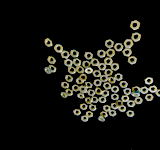nut: (130, 19, 141, 30), (127, 55, 138, 65), (131, 32, 142, 42), (105, 38, 115, 49), (44, 37, 54, 48), (124, 38, 134, 49), (114, 42, 124, 52), (97, 49, 107, 59), (84, 51, 94, 60), (106, 49, 116, 58), (55, 43, 64, 53), (145, 77, 154, 86), (120, 80, 129, 89), (111, 63, 120, 72), (93, 79, 102, 88), (64, 59, 73, 68), (48, 56, 57, 65), (123, 48, 132, 57), (140, 86, 149, 95), (111, 85, 120, 94), (48, 64, 57, 73), (104, 57, 113, 66), (98, 62, 107, 71), (91, 58, 100, 67), (115, 99, 124, 108), (76, 65, 85, 74), (61, 50, 70, 59), (145, 94, 155, 102), (70, 50, 80, 58), (104, 69, 114, 77), (123, 88, 133, 96), (101, 90, 110, 98), (108, 110, 117, 118), (93, 70, 102, 78), (65, 75, 74, 83), (72, 84, 80, 93), (79, 74, 88, 82), (149, 85, 158, 93), (121, 95, 130, 103), (44, 66, 52, 75), (115, 73, 124, 81), (73, 58, 81, 67), (103, 82, 112, 90), (65, 89, 74, 97), (73, 109, 81, 117), (91, 96, 99, 104), (127, 110, 135, 118), (135, 97, 143, 105), (83, 60, 91, 68), (119, 105, 127, 113), (81, 115, 89, 123), (89, 104, 97, 112), (80, 103, 88, 111), (108, 76, 116, 84), (85, 81, 93, 89), (111, 94, 120, 101), (99, 97, 107, 104), (128, 101, 136, 108), (111, 103, 119, 110), (103, 105, 111, 112), (85, 97, 92, 105), (88, 90, 96, 97), (95, 88, 103, 95), (61, 91, 68, 99), (61, 82, 69, 89), (80, 86, 87, 94), (76, 78, 84, 85), (85, 68, 94, 74), (132, 86, 141, 92), (101, 75, 108, 82), (86, 112, 94, 118), (98, 116, 106, 122), (100, 112, 108, 118), (77, 93, 85, 99), (132, 92, 141, 97), (156, 89, 160, 97)
